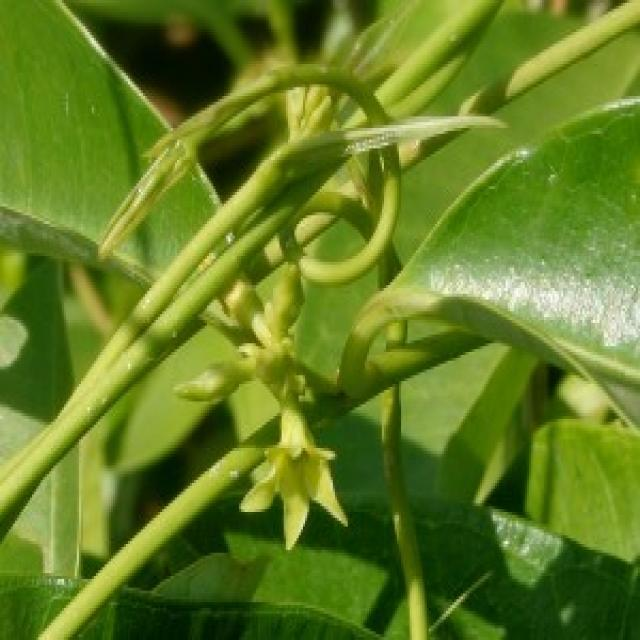Anantamul: (124, 94, 568, 490)
